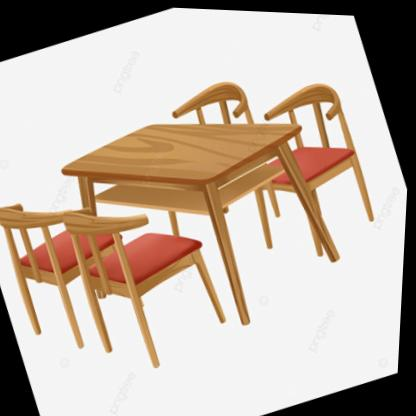Dining Table: (0, 17, 415, 416)
